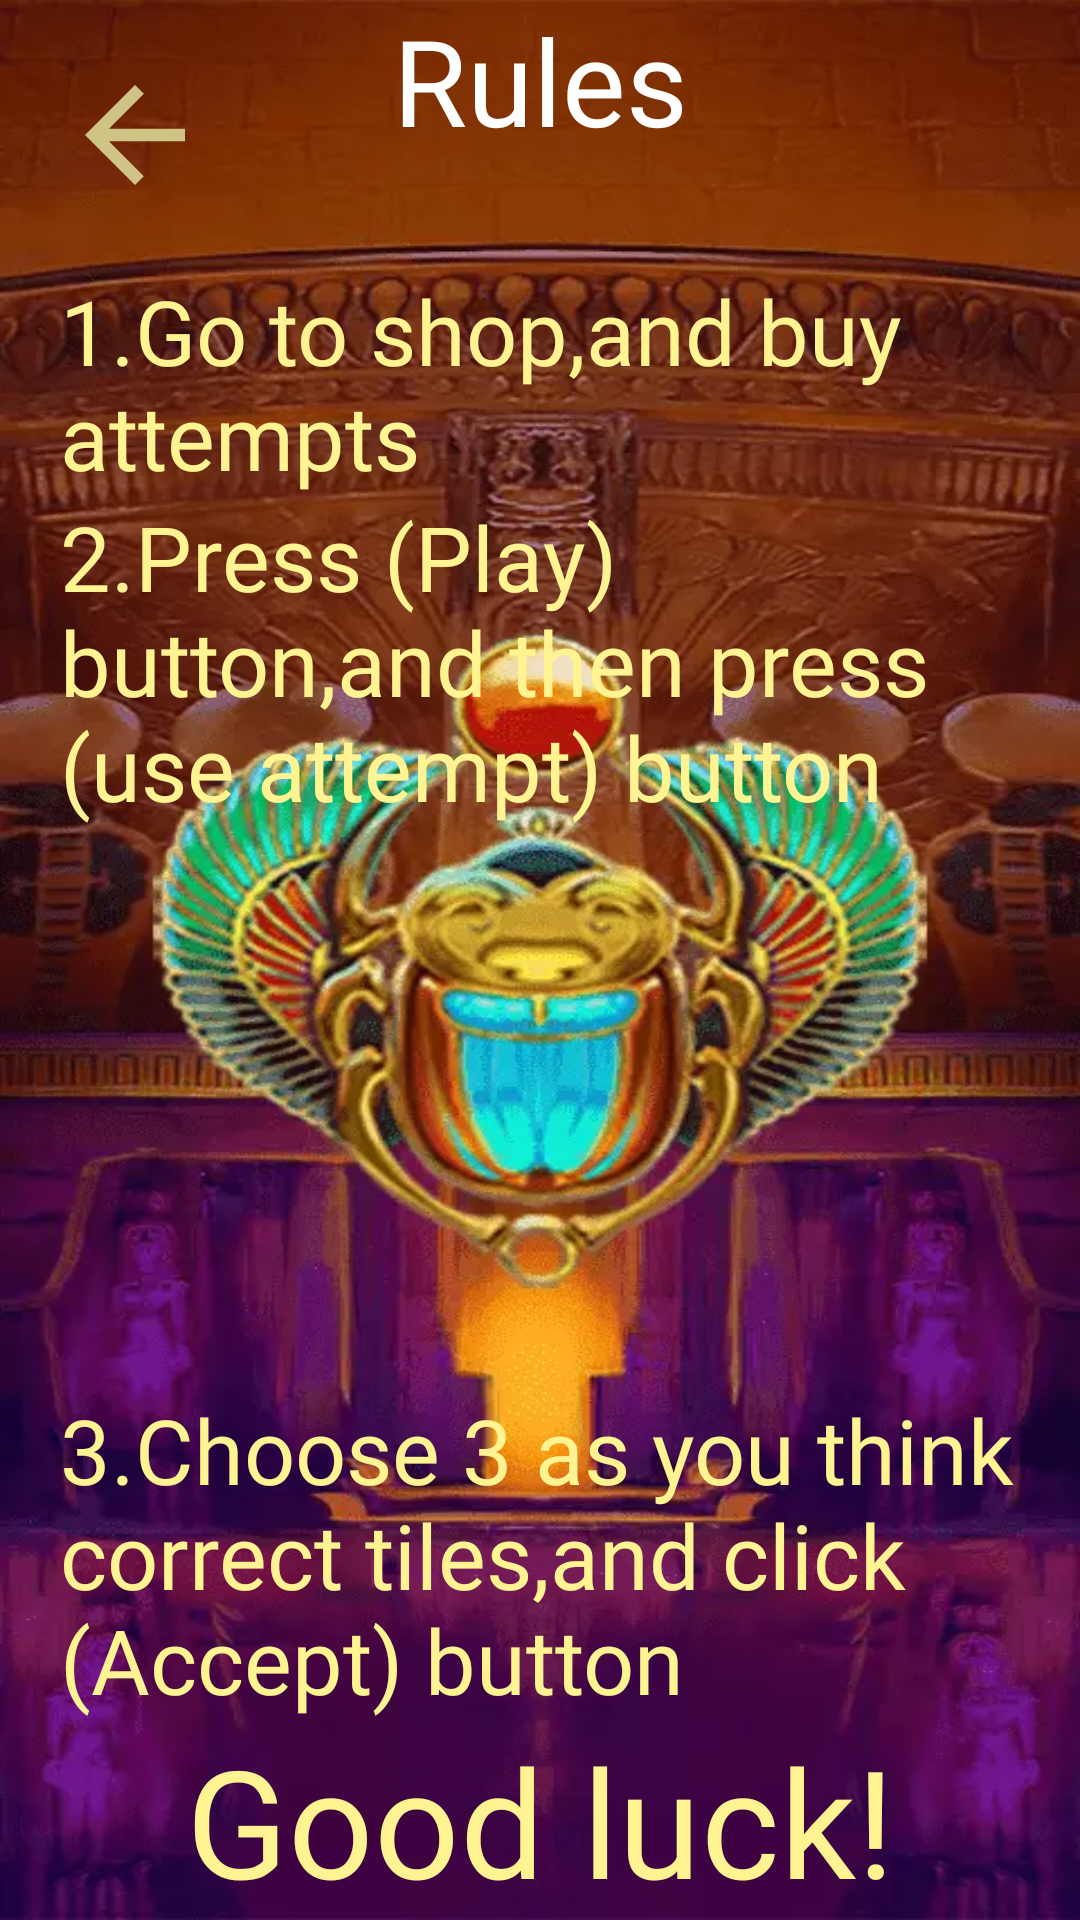

Locate icon controls on the screen. Image size 1080px×1920px, boxes as [left=x1, top=y1, right=x2, bottom=y2].
back: [left=60, top=60, right=210, bottom=209]
